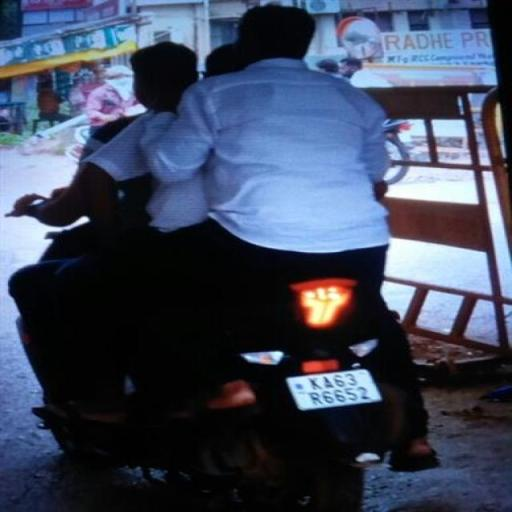tripple riding: (1, 5, 430, 279)
